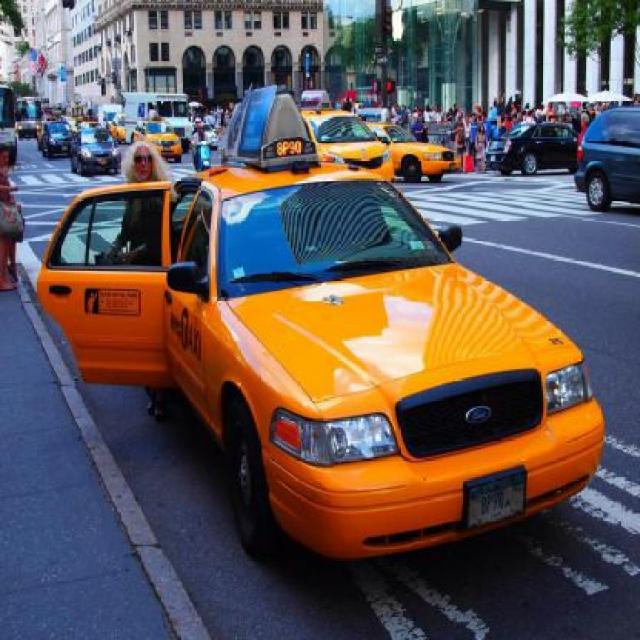License-Plates: (463, 465, 527, 531)
